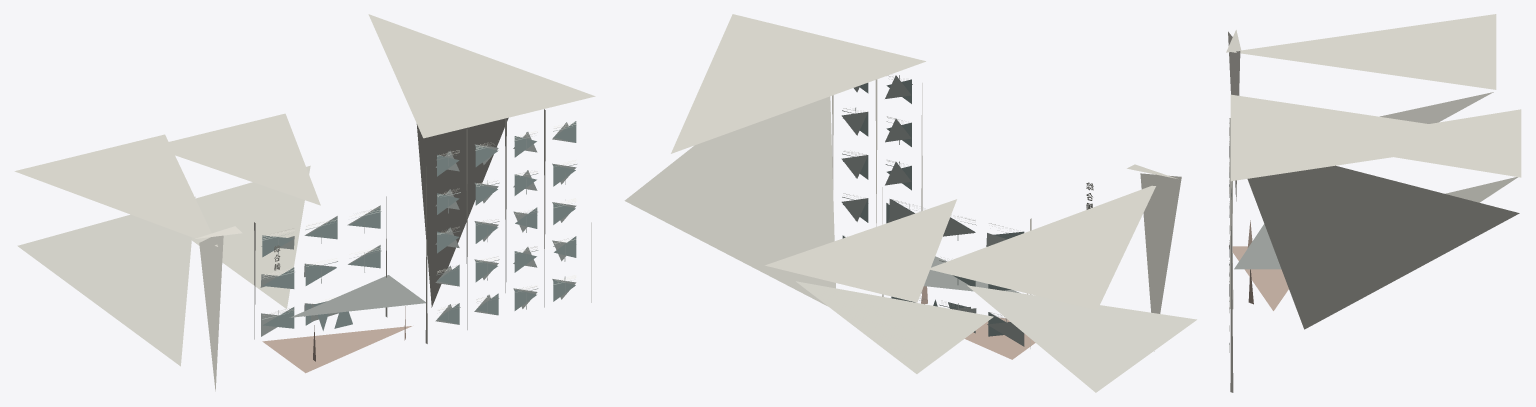
The picture shows the model from 3 angles, left to right: view 1: azimuth 30°, elevation 25°; view 2: azimuth 150°, elevation 25°; view 3: azimuth 270°, elevation 25°; orthographic projection. The views are drawn at different scales.
Visible parts, largest first — view 1: 综合办公楼 · Office pale pilasters.002, 综合办公楼 · Office ivory walls.002, 综合办公楼 · Office grey green glass.002, 综合办公楼 · Office aluminium.002, 综合办公楼 · Office entry stone.002, 综合办公楼 · Office canopy grey.002; view 2: 综合办公楼 · Office pale pilasters.002, 综合办公楼 · Office ivory walls.002, 综合办公楼 · Office aluminium.002, 综合办公楼 · Office grey green glass.002, 综合办公楼 · Office entry stone.002, 综合办公楼 · Office canopy grey.002; view 3: 综合办公楼 · Office pale pilasters.002, 综合办公楼 · Office ivory walls.002, 综合办公楼 · Office entry stone.002, 综合办公楼 · Office canopy grey.002.
Part boxes in pixels (<box>): 综合办公楼 · Office pale pilasters.002: <box>14,14,595,391</box>; 综合办公楼 · Office ivory walls.002: <box>17,117,508,366</box>; 综合办公楼 · Office grey green glass.002: <box>262,121,576,330</box>; 综合办公楼 · Office aluminium.002: <box>260,122,576,336</box>; 综合办公楼 · Office entry stone.002: <box>262,306,411,373</box>; 综合办公楼 · Office canopy grey.002: <box>289,275,425,317</box>; 综合办公楼 · Office pale pilasters.002: <box>671,14,1181,351</box>; 综合办公楼 · Office ivory walls.002: <box>624,96,1196,392</box>; 综合办公楼 · Office aluminium.002: <box>841,75,1024,346</box>; 综合办公楼 · Office grey green glass.002: <box>842,79,1024,336</box>; 综合办公楼 · Office entry stone.002: <box>921,286,1035,359</box>; 综合办公楼 · Office canopy grey.002: <box>924,256,1020,293</box>; 综合办公楼 · Office pale pilasters.002: <box>1226,14,1521,392</box>; 综合办公楼 · Office ivory walls.002: <box>1247,92,1519,329</box>; 综合办公楼 · Office entry stone.002: <box>1229,220,1288,310</box>; 综合办公楼 · Office canopy grey.002: <box>1234,224,1281,269</box>.
Bounding box in the file's own units: 42 × 18.3 × 23.05.
